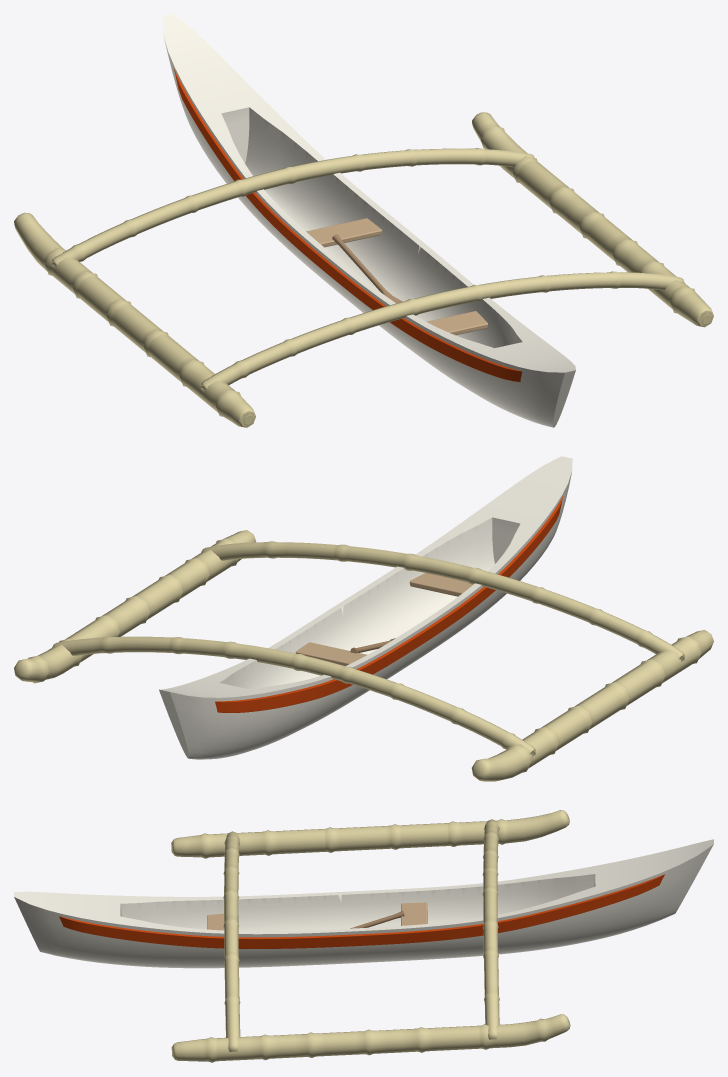
Rendered from boat_bangka_beached_9919.glb.
3 renders of one model, top to bottom at view 1: azimuth 30°, elevation 25°; view 2: azimuth 150°, elevation 25°; view 3: azimuth 270°, elevation 25°, orthographic. The views are drawn at different scales.
Parts seen in each view (by area): view 1: bangka_beached_9919_paint_hull, bangka_beached_9919_bamboo, bangka_beached_9919_paint_trim, bangka_beached_9919_plank; view 2: bangka_beached_9919_paint_hull, bangka_beached_9919_bamboo, bangka_beached_9919_paint_trim, bangka_beached_9919_plank; view 3: bangka_beached_9919_paint_hull, bangka_beached_9919_bamboo, bangka_beached_9919_paint_trim, bangka_beached_9919_plank.
Boxes of the visible parts, bbox=[...] form: bangka_beached_9919_paint_hull: bbox=[162, 14, 575, 427]; bangka_beached_9919_bamboo: bbox=[14, 112, 713, 427]; bangka_beached_9919_paint_trim: bbox=[174, 68, 522, 381]; bangka_beached_9919_plank: bbox=[306, 218, 487, 335]; bangka_beached_9919_paint_hull: bbox=[159, 456, 572, 759]; bangka_beached_9919_bamboo: bbox=[14, 530, 713, 781]; bangka_beached_9919_paint_trim: bbox=[215, 496, 563, 712]; bangka_beached_9919_plank: bbox=[295, 573, 472, 665]; bangka_beached_9919_paint_hull: bbox=[14, 839, 713, 968]; bangka_beached_9919_bamboo: bbox=[171, 810, 570, 1062]; bangka_beached_9919_paint_trim: bbox=[59, 874, 664, 948]; bangka_beached_9919_plank: bbox=[207, 902, 427, 930].
Bounding box in the file's own units: 4.4 × 1.24 × 6.33.
